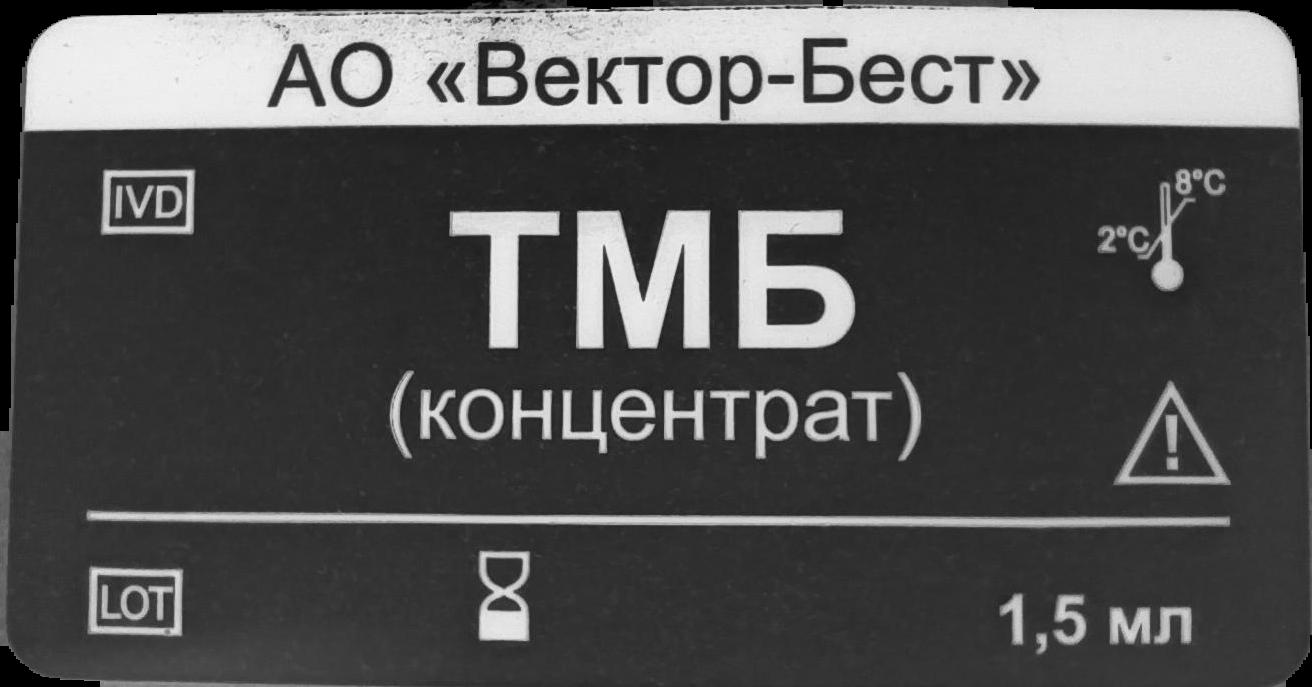something: (1086, 166, 1243, 298), (1109, 378, 1230, 496), (99, 159, 200, 240), (85, 564, 194, 639), (475, 548, 536, 648)
text: (384, 202, 929, 473), (258, 28, 1056, 123), (1000, 586, 1198, 668)
